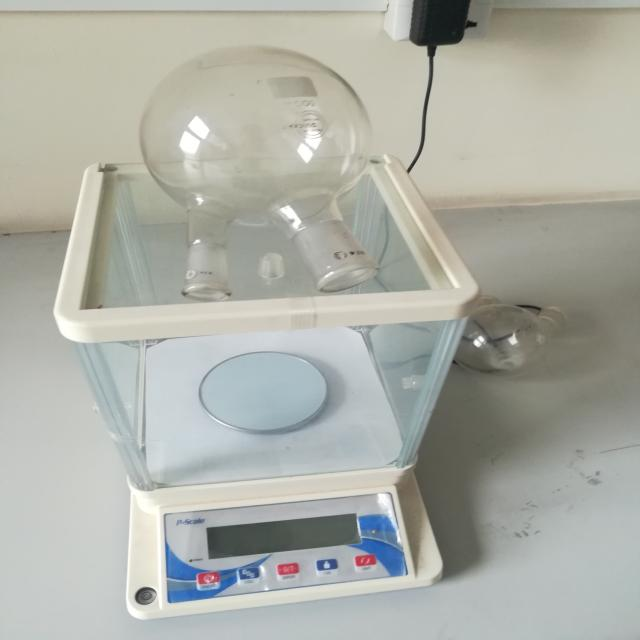Round_Bottom_Flask_Borosilicate_Glass_2_Neck: (84, 28, 454, 351)
